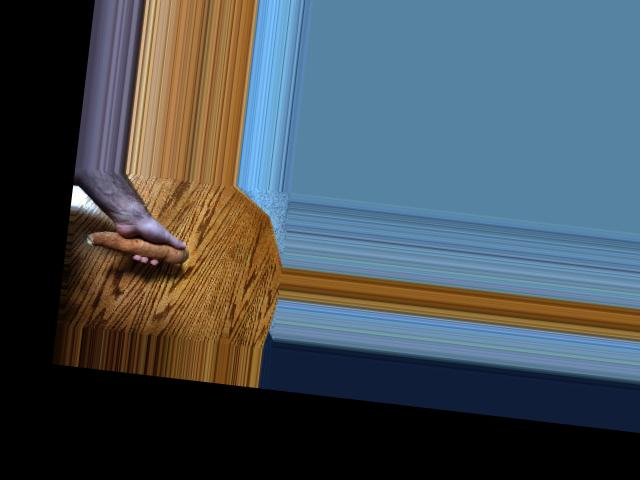sweet_potato: (81, 220, 192, 267)
